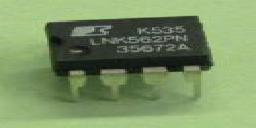Electrolytic-capacitor: (43, 16, 214, 100)
